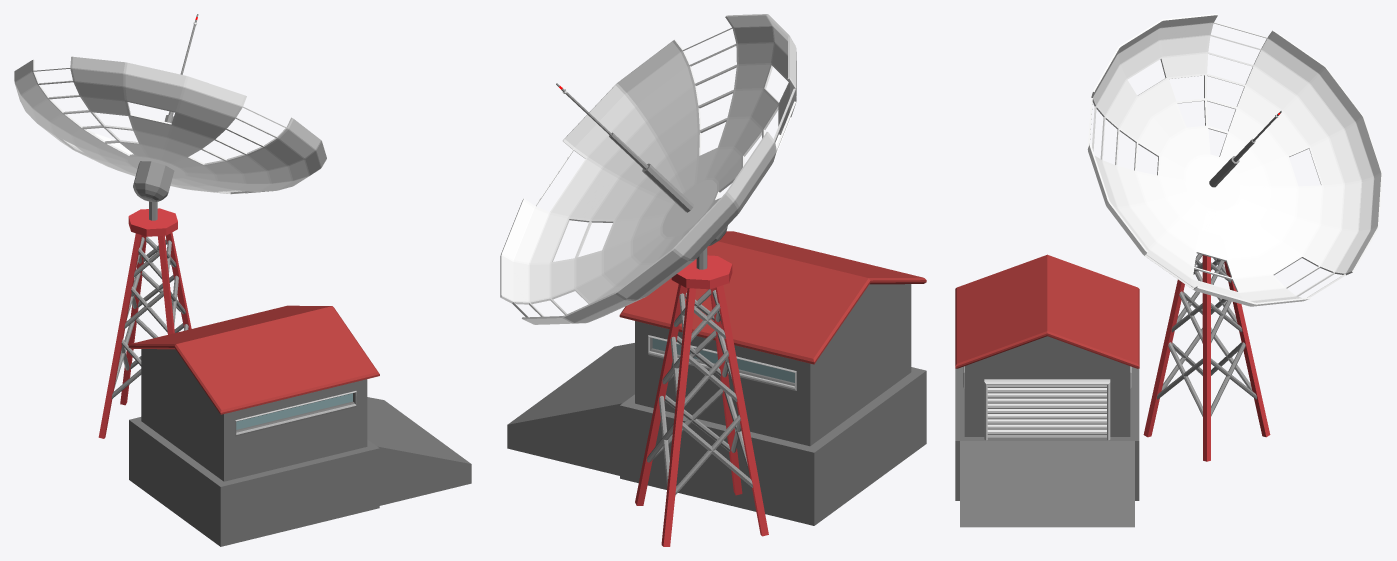
Rendered from Repaishop_normal_004.glb.
3 views of the same model, side by side, from view 1: azimuth 30°, elevation 25°; view 2: azimuth 150°, elevation 25°; view 3: azimuth 270°, elevation 25° (orthographic). The views are drawn at different scales.
Visible parts, largest first — view 1: Repairshop_arid_001, Satelite_Dish.003, Tower_Base; view 2: Repairshop_arid_001, Satelite_Dish.003, Tower_Base; view 3: Satelite_Dish.003, Repairshop_arid_001, Tower_Base.
Part boxes in pixels (bbox=[...]): Repairshop_arid_001: bbox=[128, 305, 471, 546]; Satelite_Dish.003: bbox=[14, 14, 326, 201]; Tower_Base: bbox=[98, 201, 191, 438]; Repairshop_arid_001: bbox=[507, 231, 926, 525]; Satelite_Dish.003: bbox=[500, 14, 796, 324]; Tower_Base: bbox=[635, 247, 768, 546]; Satelite_Dish.003: bbox=[1087, 14, 1382, 306]; Repairshop_arid_001: bbox=[955, 254, 1139, 527]; Tower_Base: bbox=[1143, 254, 1270, 461].
Size of the model in its own units: 28.68 by 39.13 by 37.17.
